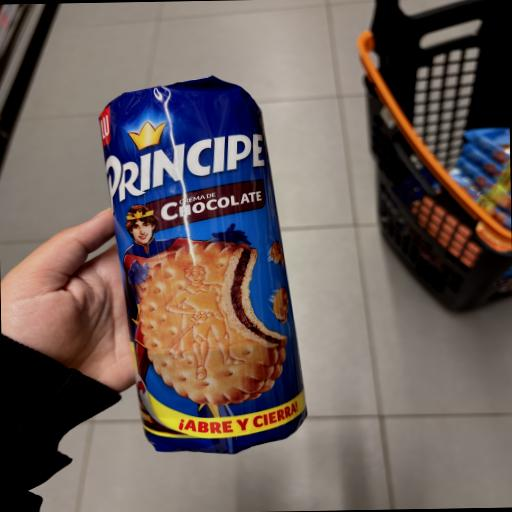prince: (18, 40, 404, 478)
